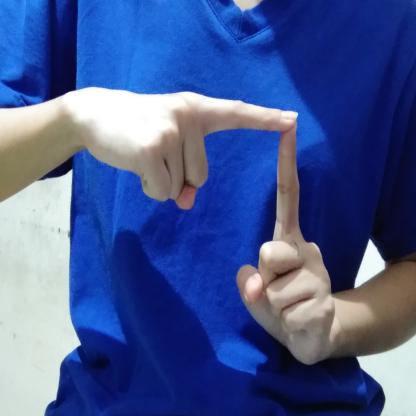when: (58, 79, 364, 368)
